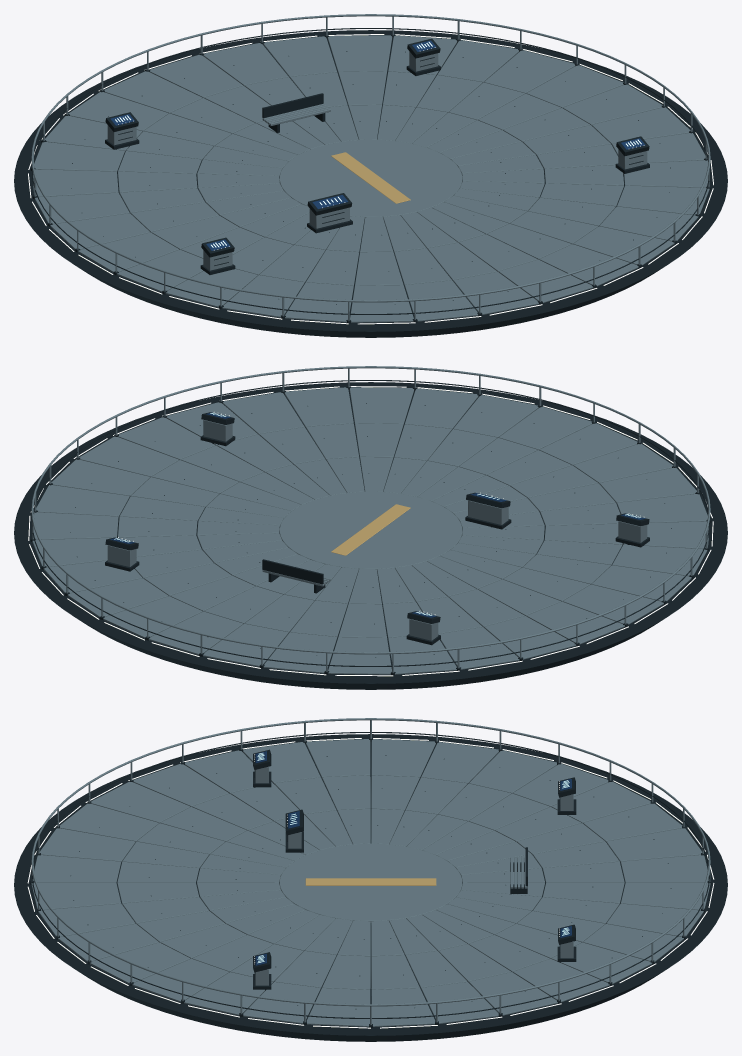
File: observation_deck.glb
3 views of the same model, one above another, from view 1: azimuth 30°, elevation 25°; view 2: azimuth 150°, elevation 25°; view 3: azimuth 270°, elevation 25° (orthographic).
Parts seen in each view (by area): view 1: Detail.observation_deck.Metal, Detail.observation_deck.Dark, Detail.observation_deck.Light, Detail.observation_deck.Brass, Detail.observation_deck.Glass; view 2: Detail.observation_deck.Metal, Detail.observation_deck.Dark, Detail.observation_deck.Light, Detail.observation_deck.Brass; view 3: Detail.observation_deck.Metal, Detail.observation_deck.Dark, Detail.observation_deck.Light, Detail.observation_deck.Brass, Detail.observation_deck.Glass.
Boxes of the visible parts, x1=… form: Detail.observation_deck.Metal: x1=31, y1=14, x2=710, y2=322; Detail.observation_deck.Dark: x1=14, y1=28, x2=727, y2=337; Detail.observation_deck.Light: x1=28, y1=34, x2=713, y2=324; Detail.observation_deck.Brass: x1=331, y1=152, x2=410, y2=203; Detail.observation_deck.Glass: x1=110, y1=40, x2=645, y2=250; Detail.observation_deck.Metal: x1=31, y1=366, x2=710, y2=674; Detail.observation_deck.Dark: x1=14, y1=380, x2=727, y2=689; Detail.observation_deck.Light: x1=28, y1=386, x2=713, y2=676; Detail.observation_deck.Brass: x1=331, y1=504, x2=410, y2=555; Detail.observation_deck.Metal: x1=31, y1=718, x2=710, y2=1026; Detail.observation_deck.Dark: x1=14, y1=732, x2=727, y2=1041; Detail.observation_deck.Light: x1=27, y1=738, x2=714, y2=1028; Detail.observation_deck.Brass: x1=305, y1=878, x2=436, y2=885; Detail.observation_deck.Glass: x1=255, y1=751, x2=571, y2=965.
Size of the model in its own units: 32.79 by 2.11 by 32.79.
